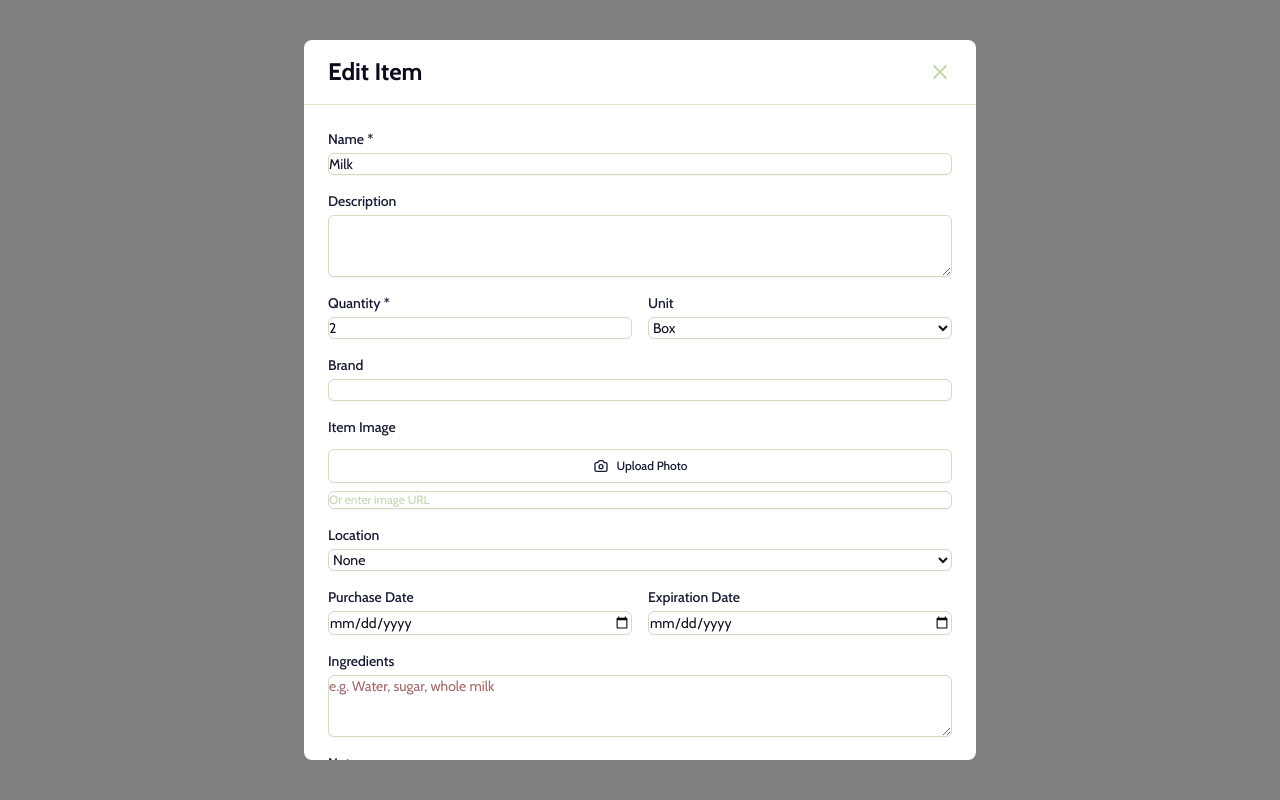
Test case: EditItemModal › sets a preview from an image URL, then clears it when emptied
Type "http://x/y.png" into the field with placeholder "Or enter image URL" at [640, 500], box [328, 491, 952, 509]
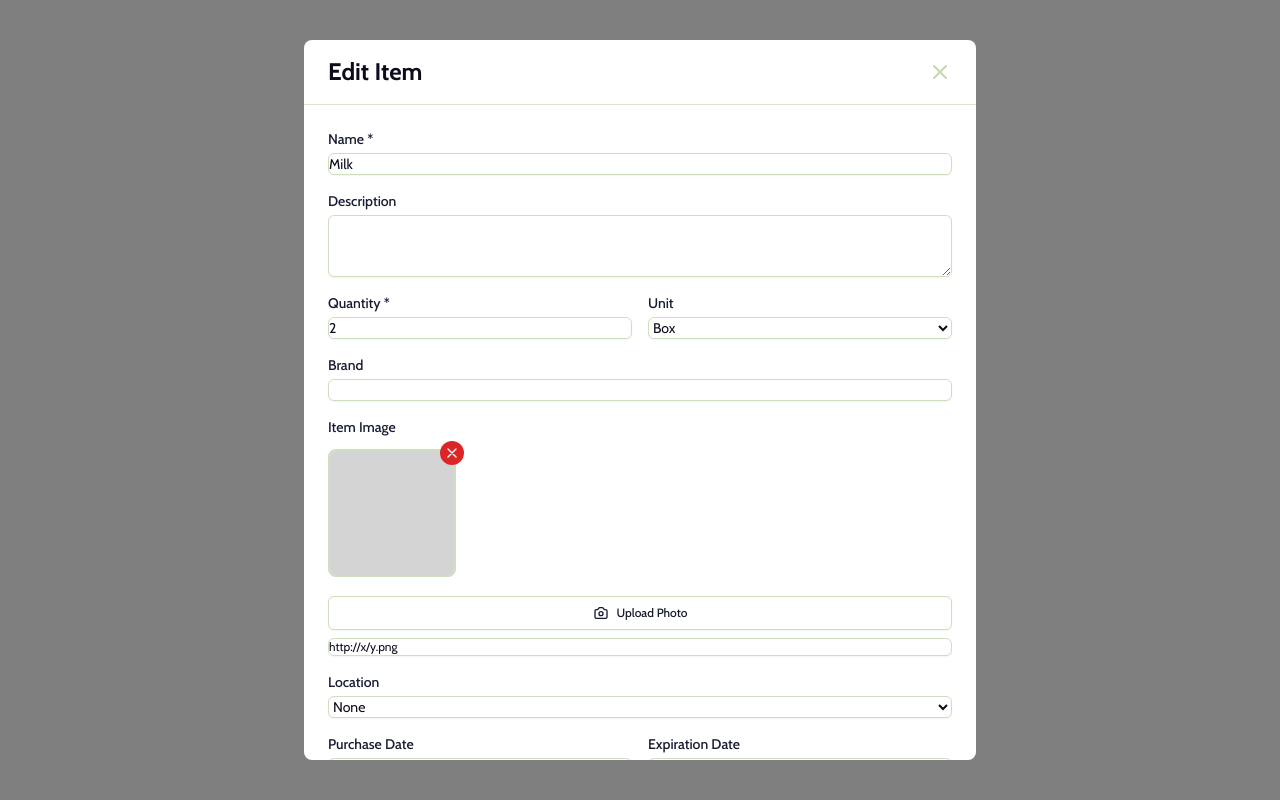
Clear the field with placeholder "Or enter image URL" at [640, 647], box [328, 638, 952, 656]
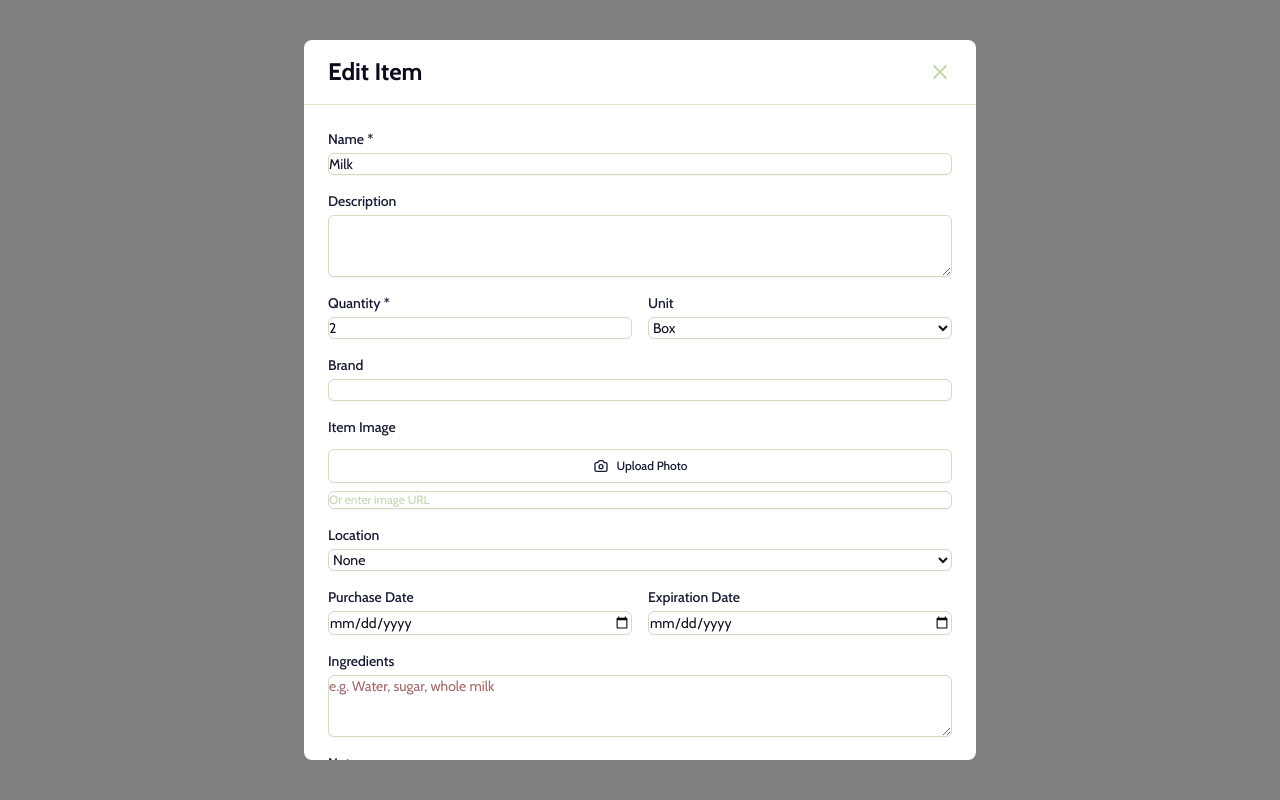
Result: the picture with alt text "Preview" is gone
